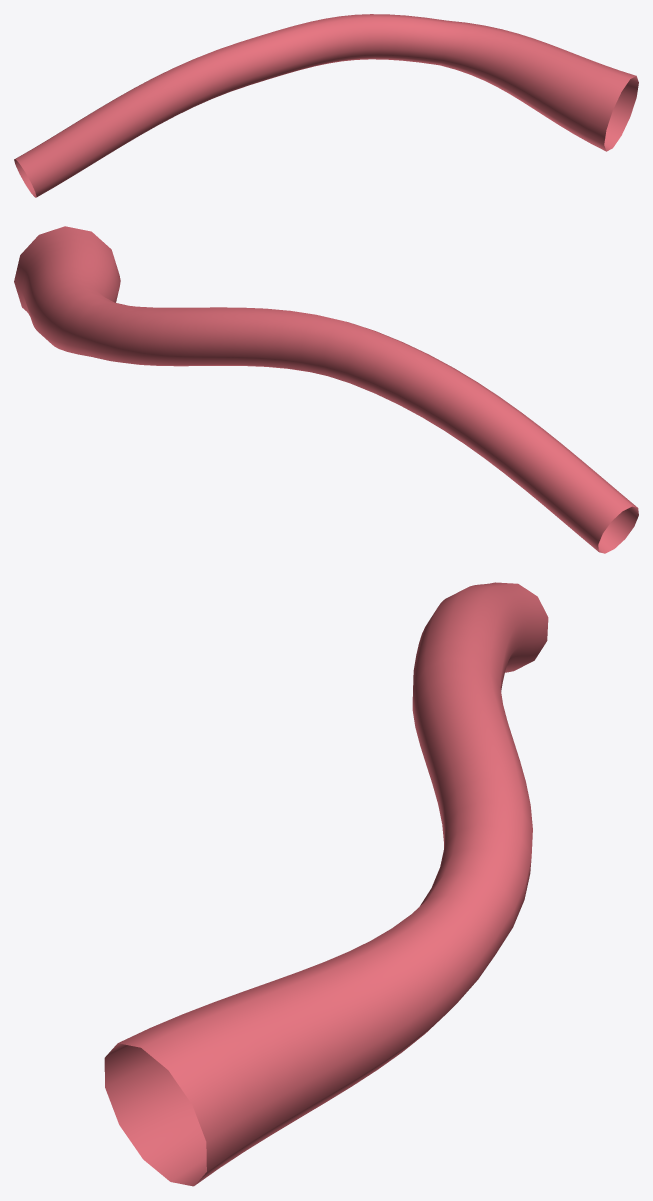
3 renders of one model, top to bottom at view 1: azimuth 30°, elevation 25°; view 2: azimuth 150°, elevation 25°; view 3: azimuth 270°, elevation 25°, orthographic. The views are drawn at different scales.
Visible parts, largest first — view 1: ZA_cb7ba03b6e36866c; view 2: ZA_cb7ba03b6e36866c; view 3: ZA_cb7ba03b6e36866c.
Part boxes in pixels (x1,y1,x2,y2): ZA_cb7ba03b6e36866c: (14, 14, 638, 197); ZA_cb7ba03b6e36866c: (14, 226, 638, 553); ZA_cb7ba03b6e36866c: (104, 582, 548, 1186).
Bounding box in the file's own units: 0.0693 × 0.0154 × 0.0245.
